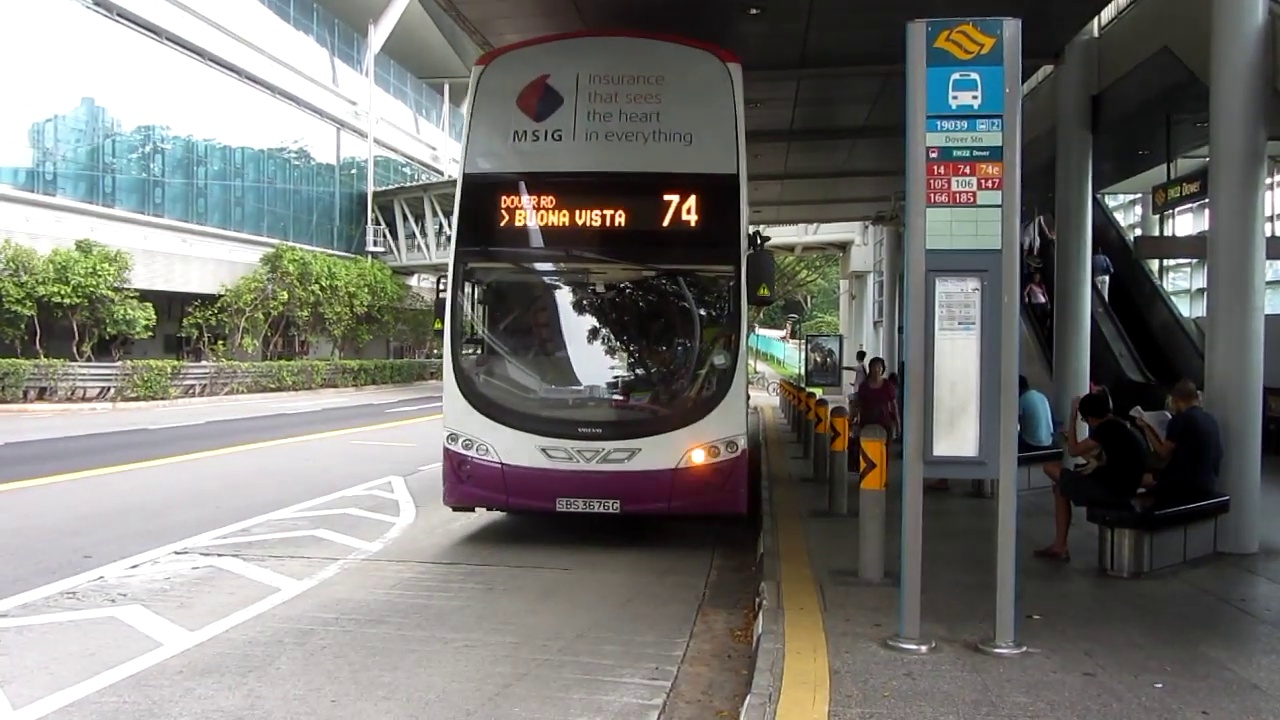bus panel: (495, 190, 702, 231)
